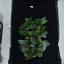leaf: (40, 39, 50, 46), (26, 15, 32, 26), (40, 17, 48, 25), (17, 39, 27, 45), (40, 31, 48, 38), (19, 30, 27, 37), (18, 24, 27, 30), (39, 26, 46, 33), (19, 46, 26, 53), (34, 51, 42, 56), (27, 49, 33, 55), (25, 56, 34, 60), (40, 46, 46, 52), (32, 31, 39, 36), (35, 38, 40, 44), (34, 18, 39, 24), (27, 39, 32, 45)
